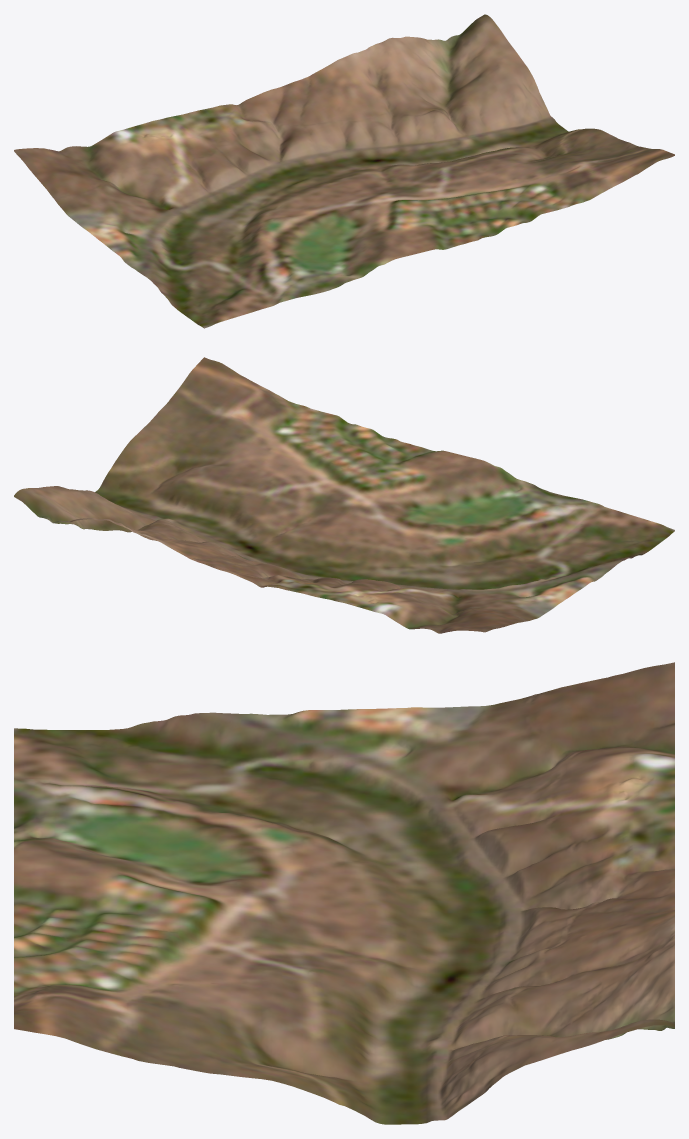
File: terrain_r0_c1.glb
The picture shows the model from 3 angles, top to bottom: view 1: azimuth 30°, elevation 25°; view 2: azimuth 150°, elevation 25°; view 3: azimuth 270°, elevation 25°; orthographic projection. The views are drawn at different scales.
Parts seen in each view (by area): view 1: terrain_r0_c1_lod0; view 2: terrain_r0_c1_lod0; view 3: terrain_r0_c1_lod0.
Part boxes in pixels (box(x1,y1,x2,y2)): terrain_r0_c1_lod0: box(14, 14, 674, 328); terrain_r0_c1_lod0: box(14, 357, 674, 633); terrain_r0_c1_lod0: box(14, 662, 674, 1124).
Bounding box in the file's own units: 1125 × 143 × 787.
Materials: 1 (1 with a texture image).
